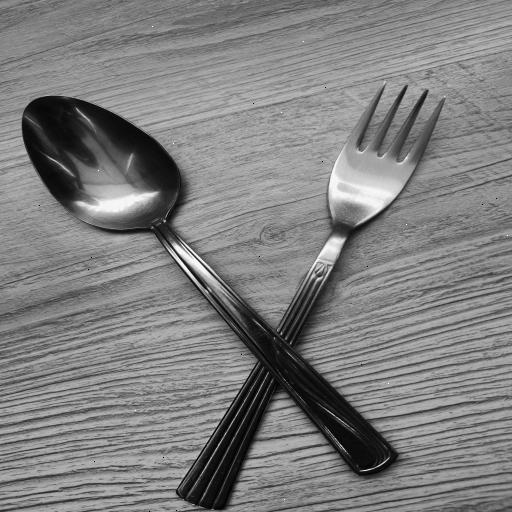fork: (180, 80, 444, 506)
spoon: (20, 92, 390, 470)
